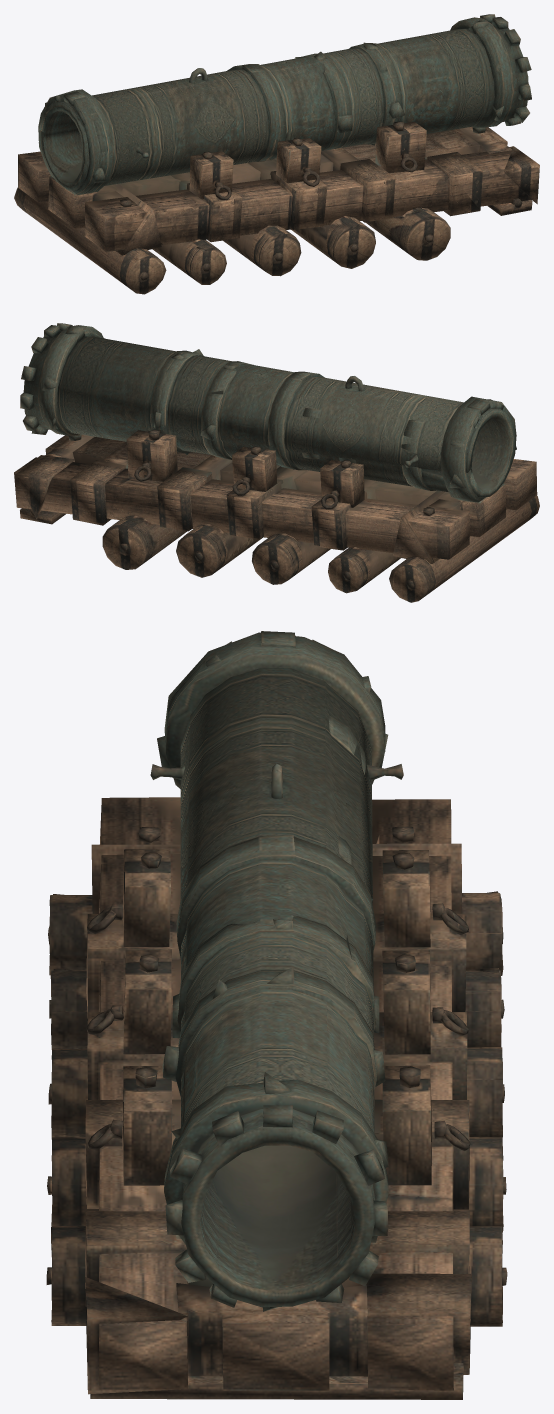
File: Meshy_AI_model.glb
The picture shows the model from 3 angles, top to bottom: view 1: azimuth 30°, elevation 25°; view 2: azimuth 150°, elevation 25°; view 3: azimuth 270°, elevation 25°; orthographic projection. The views are drawn at different scales.
Size of the model in its own units: 1 by 0.4254 by 0.4498.
1 material, 1 textured.
